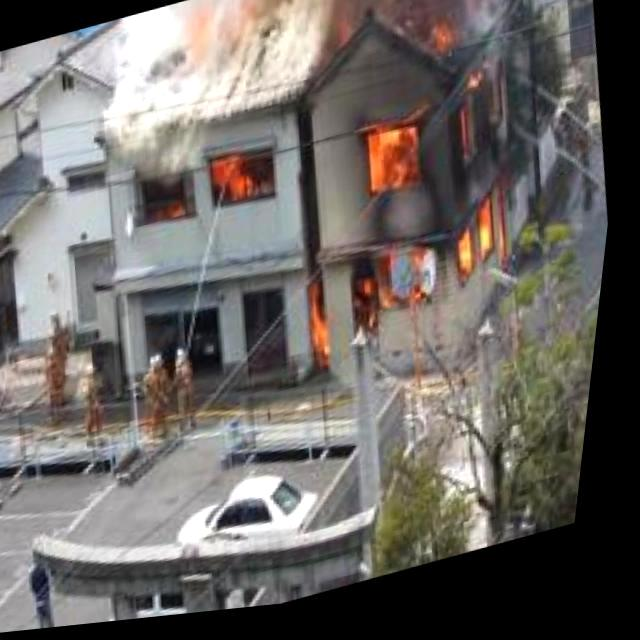fire: (264, 8, 588, 380), (156, 127, 304, 247)
